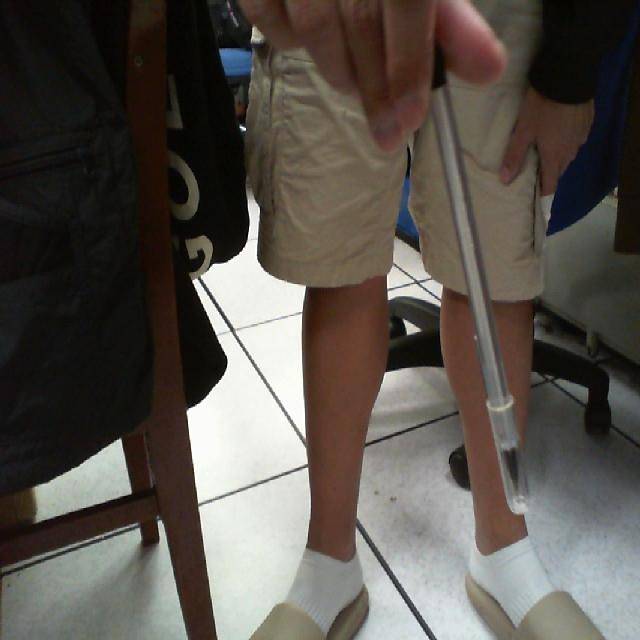Pen: (411, 51, 546, 550)
